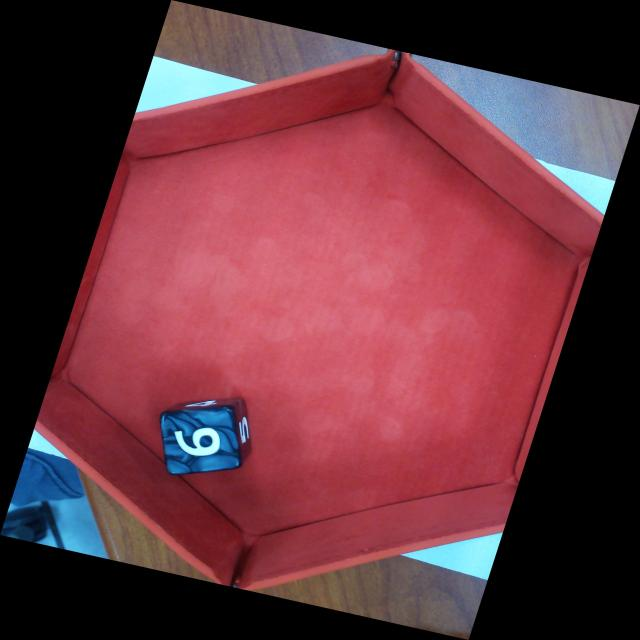dice: (158, 404, 243, 475)
